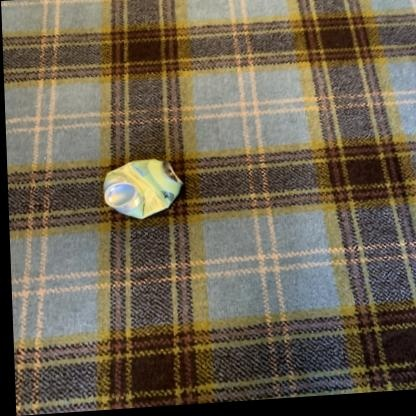trash: (104, 159, 182, 218)
